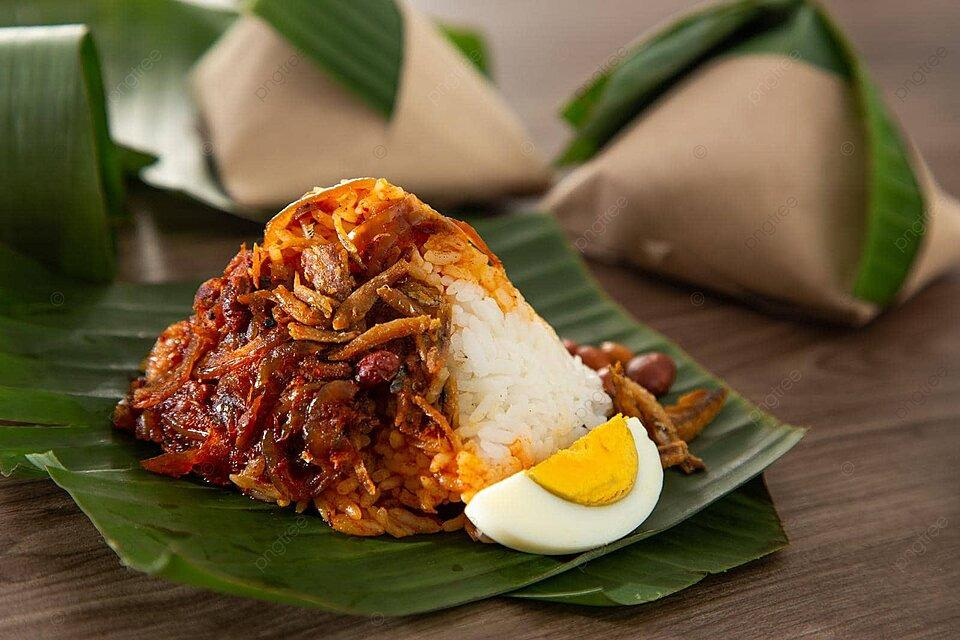Anchovies: (271, 261, 440, 362), (142, 298, 279, 409), (603, 361, 730, 475)
Boiled-Egg: (465, 415, 660, 555)
Peanuts: (576, 342, 678, 396), (307, 424, 360, 469), (345, 351, 391, 397)
Rice: (111, 179, 621, 536)
Sambal: (112, 180, 502, 515)
